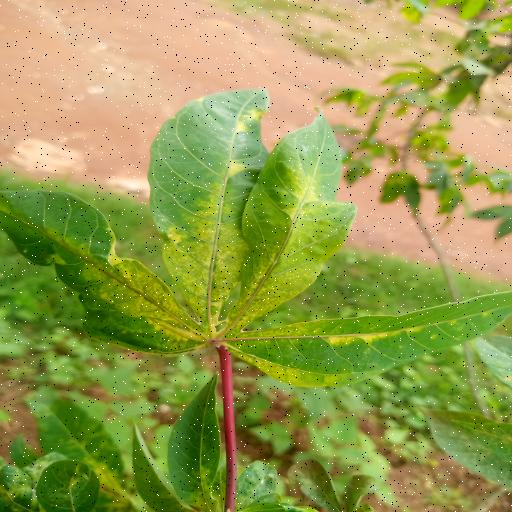Cassava_Mosaic: (3, 81, 512, 394)
